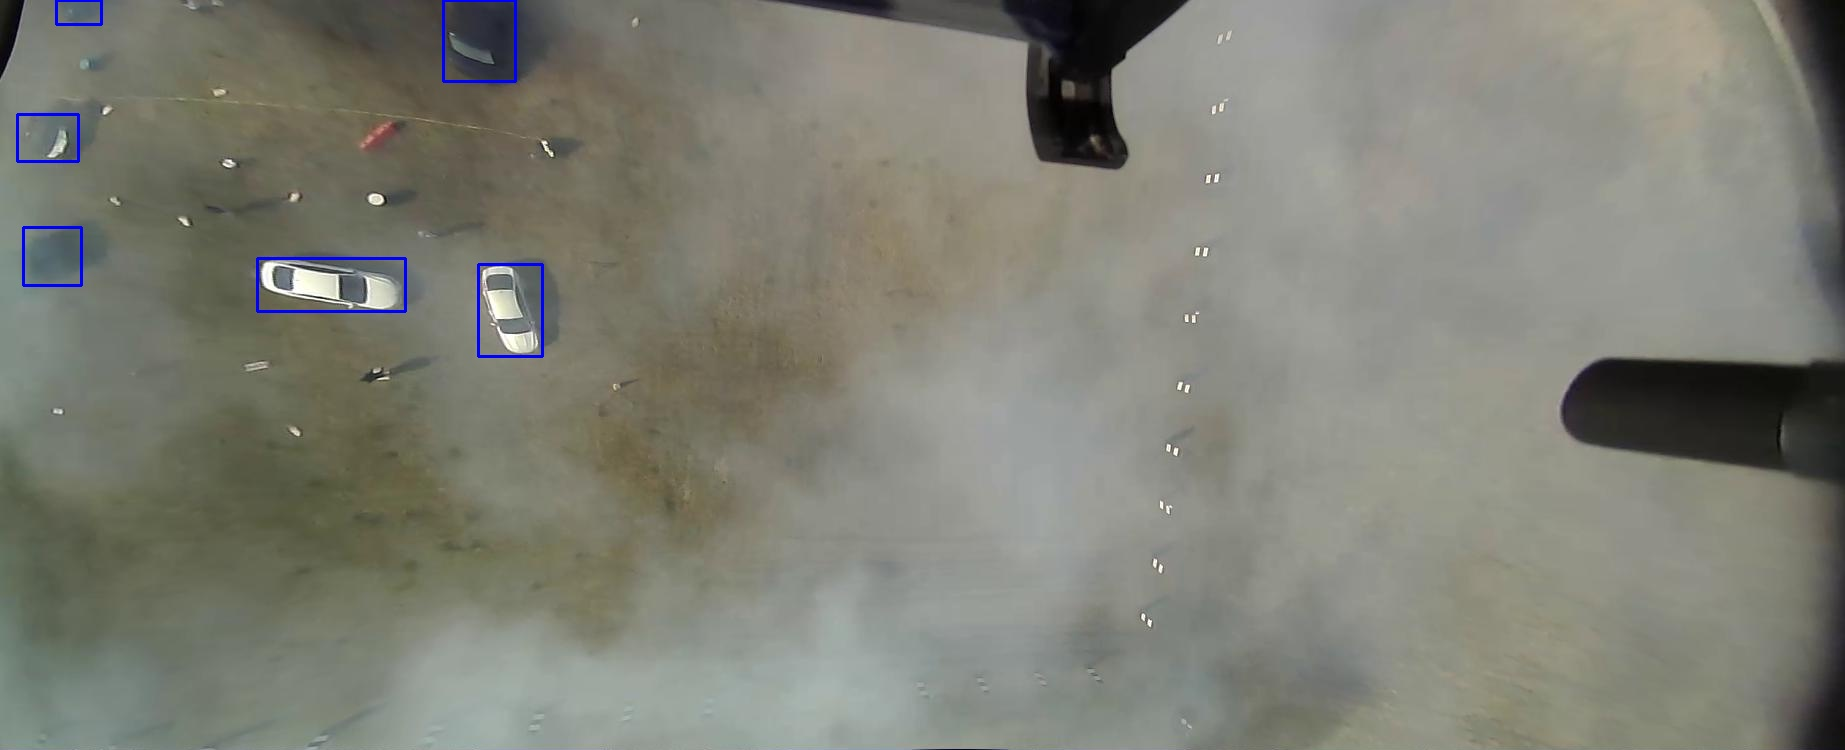vehicle: (258, 257, 311, 405), (264, 478, 357, 542), (0, 443, 81, 515), (227, 24, 285, 81), (114, 16, 161, 78), (0, 57, 24, 101)
